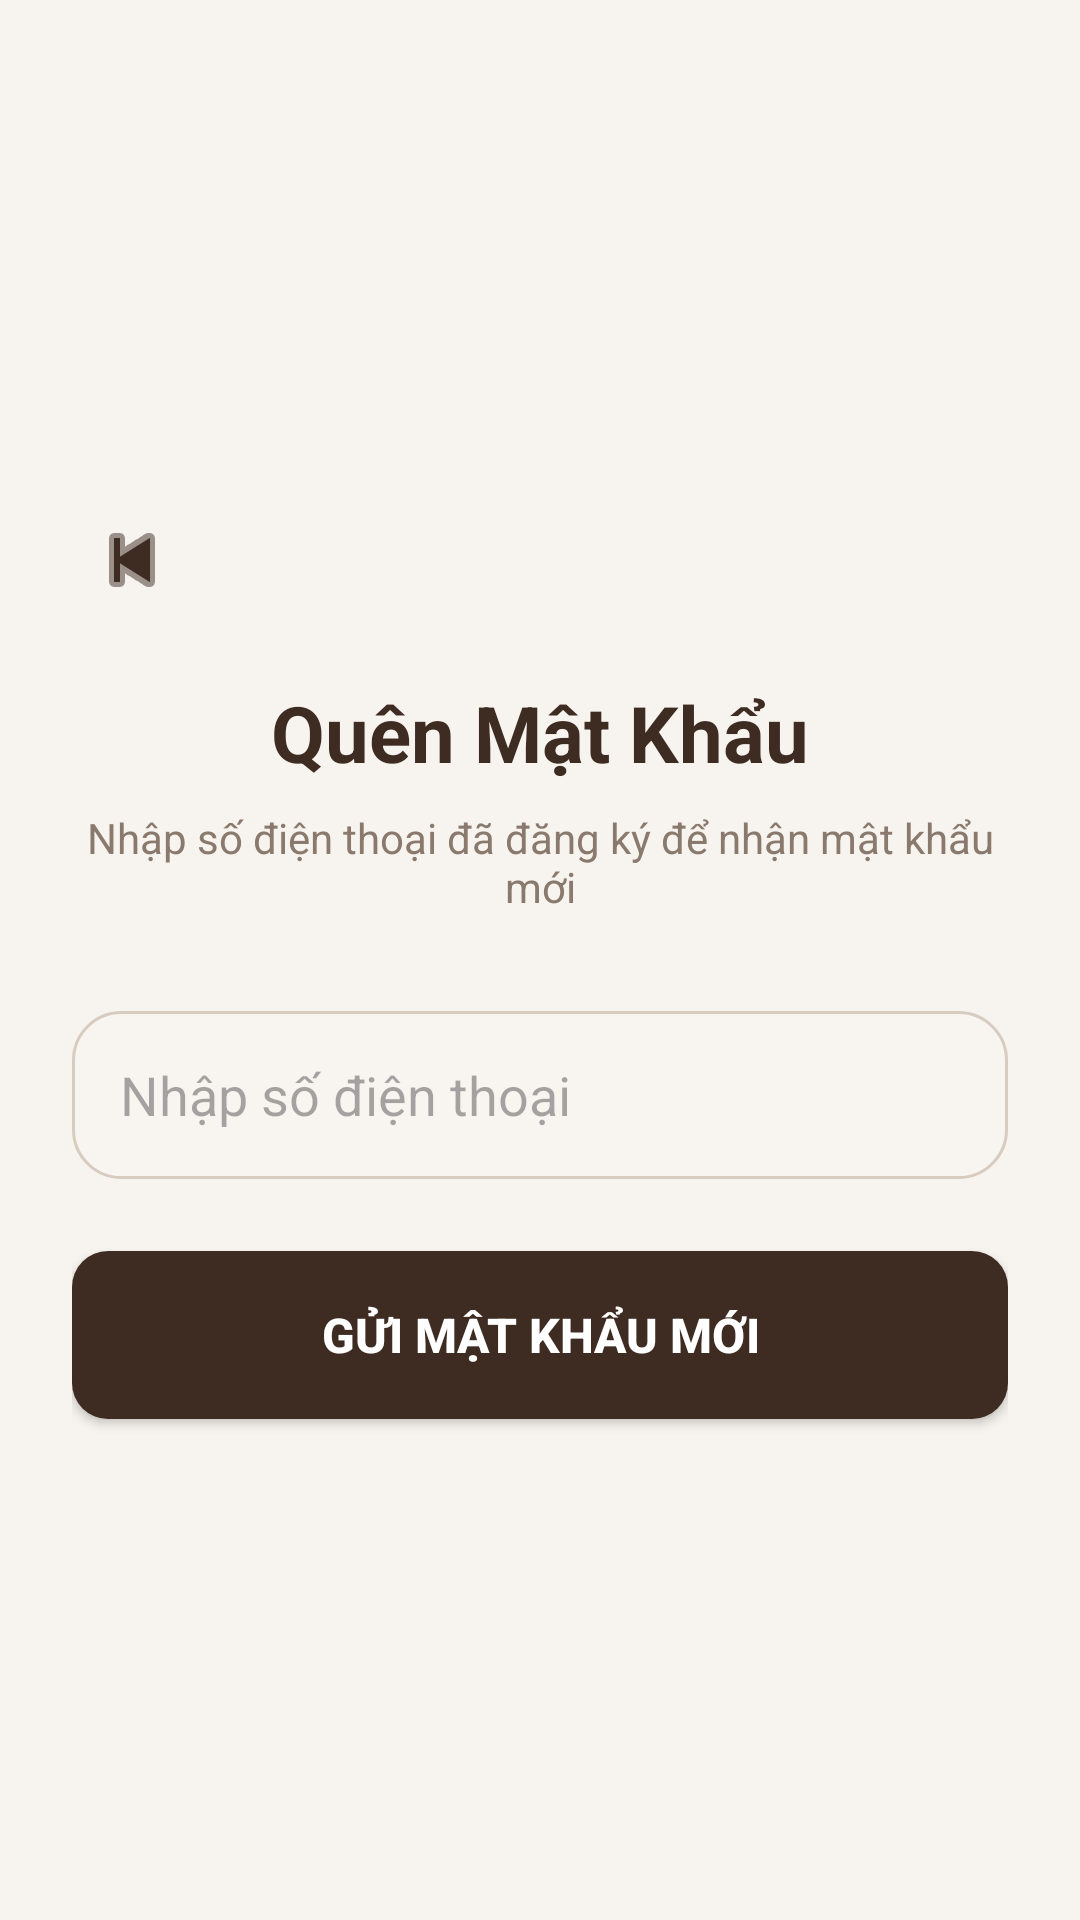

Icons on this 1080px×1920px Android screen, each with its box as (x1, y1, x2, y2):
previous: (109, 533, 155, 587)
